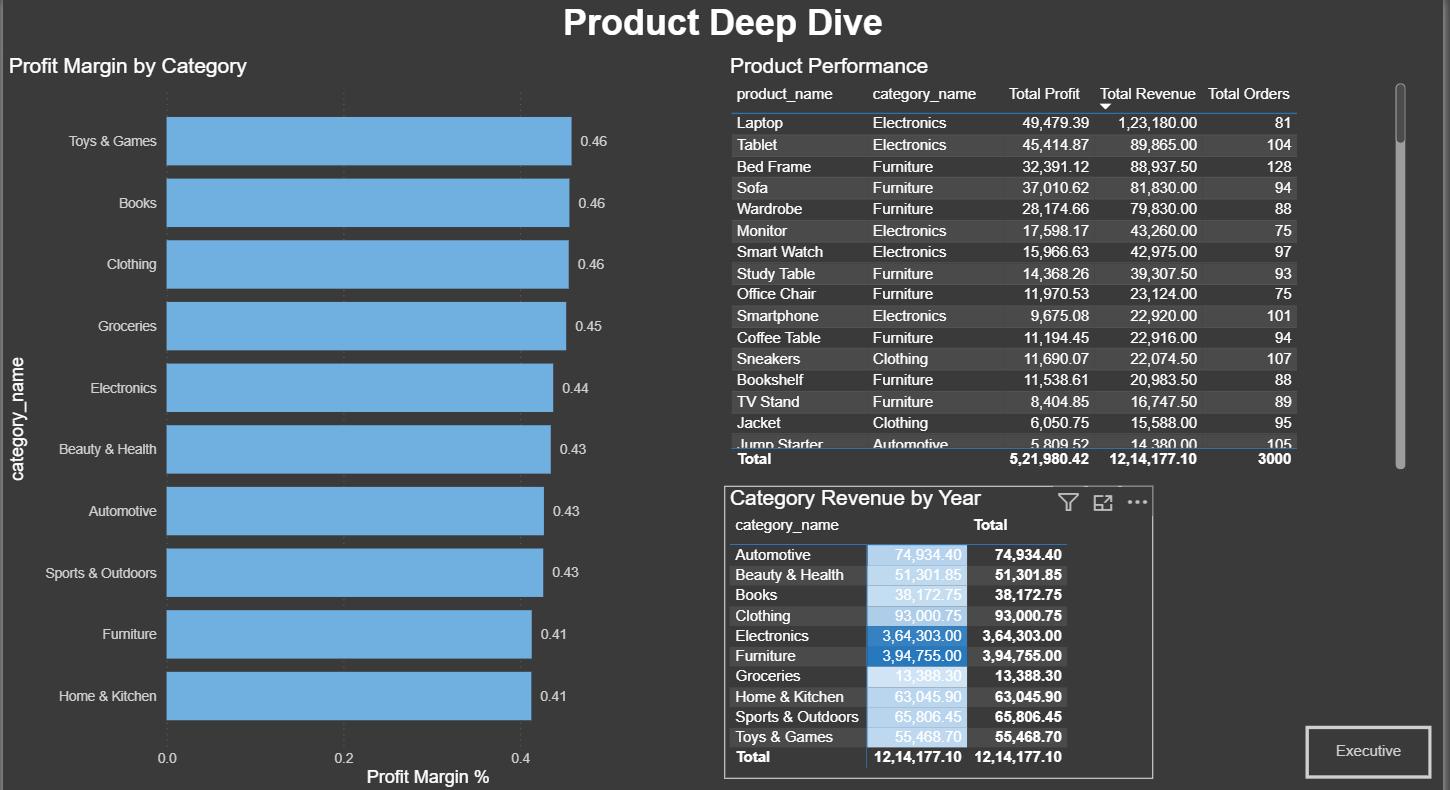

Layout of this report page (visuals, bound fields, positions):
{"tool":"powerbi","page":{"name":"Product Deep DIve","canvas":[1280,720],"ordinal":2},"visuals":[{"type":"pivotTable","title":"Category Revenue by Year","fields":{"Rows":["retail_db vw_sales_fact.category_name"],"Columns":["DateTable.Year"],"Values":["_Measures.Total Revenue"]},"box":[640.6,434.3,381.2,260.6],"z":0},{"type":"clusteredBarChart","title":"Profit Margin by Category","fields":{"Category":["retail_db vw_sales_fact.category_name"],"Y":["_Measures.Profit Margin %"]},"box":[0,50.7,624.9,656.3],"z":1000},{"type":"tableEx","title":"Product Performance","fields":{"Values":["retail_db vw_sales_fact.product_name","retail_db vw_sales_fact.category_name","_Measures.Total Profit","_Measures.Total Revenue","_Measures.Total Orders"]},"box":[640.6,50.7,610.5,374],"z":2000},{"type":"textbox","box":[0,0,1280,50.7],"z":3000},{"type":"actionButton","box":[1158.2,647.9,112.2,47.1],"z":3001}]}

Visuals, with their boxes on the page's 1280x720 design canvas (x1, y1, x2, y2). These are canvas units, not pixel positions in the 1450x790 screenshot, which may show the page scaled, cropped or inside an application window:
"Category Revenue by Year" pivotTable: Rect(641, 434, 1022, 695)
"Profit Margin by Category" clusteredBarChart: Rect(0, 51, 625, 707)
"Product Performance" tableEx: Rect(641, 51, 1251, 425)
textbox: Rect(0, 0, 1280, 51)
actionButton: Rect(1158, 648, 1270, 695)
